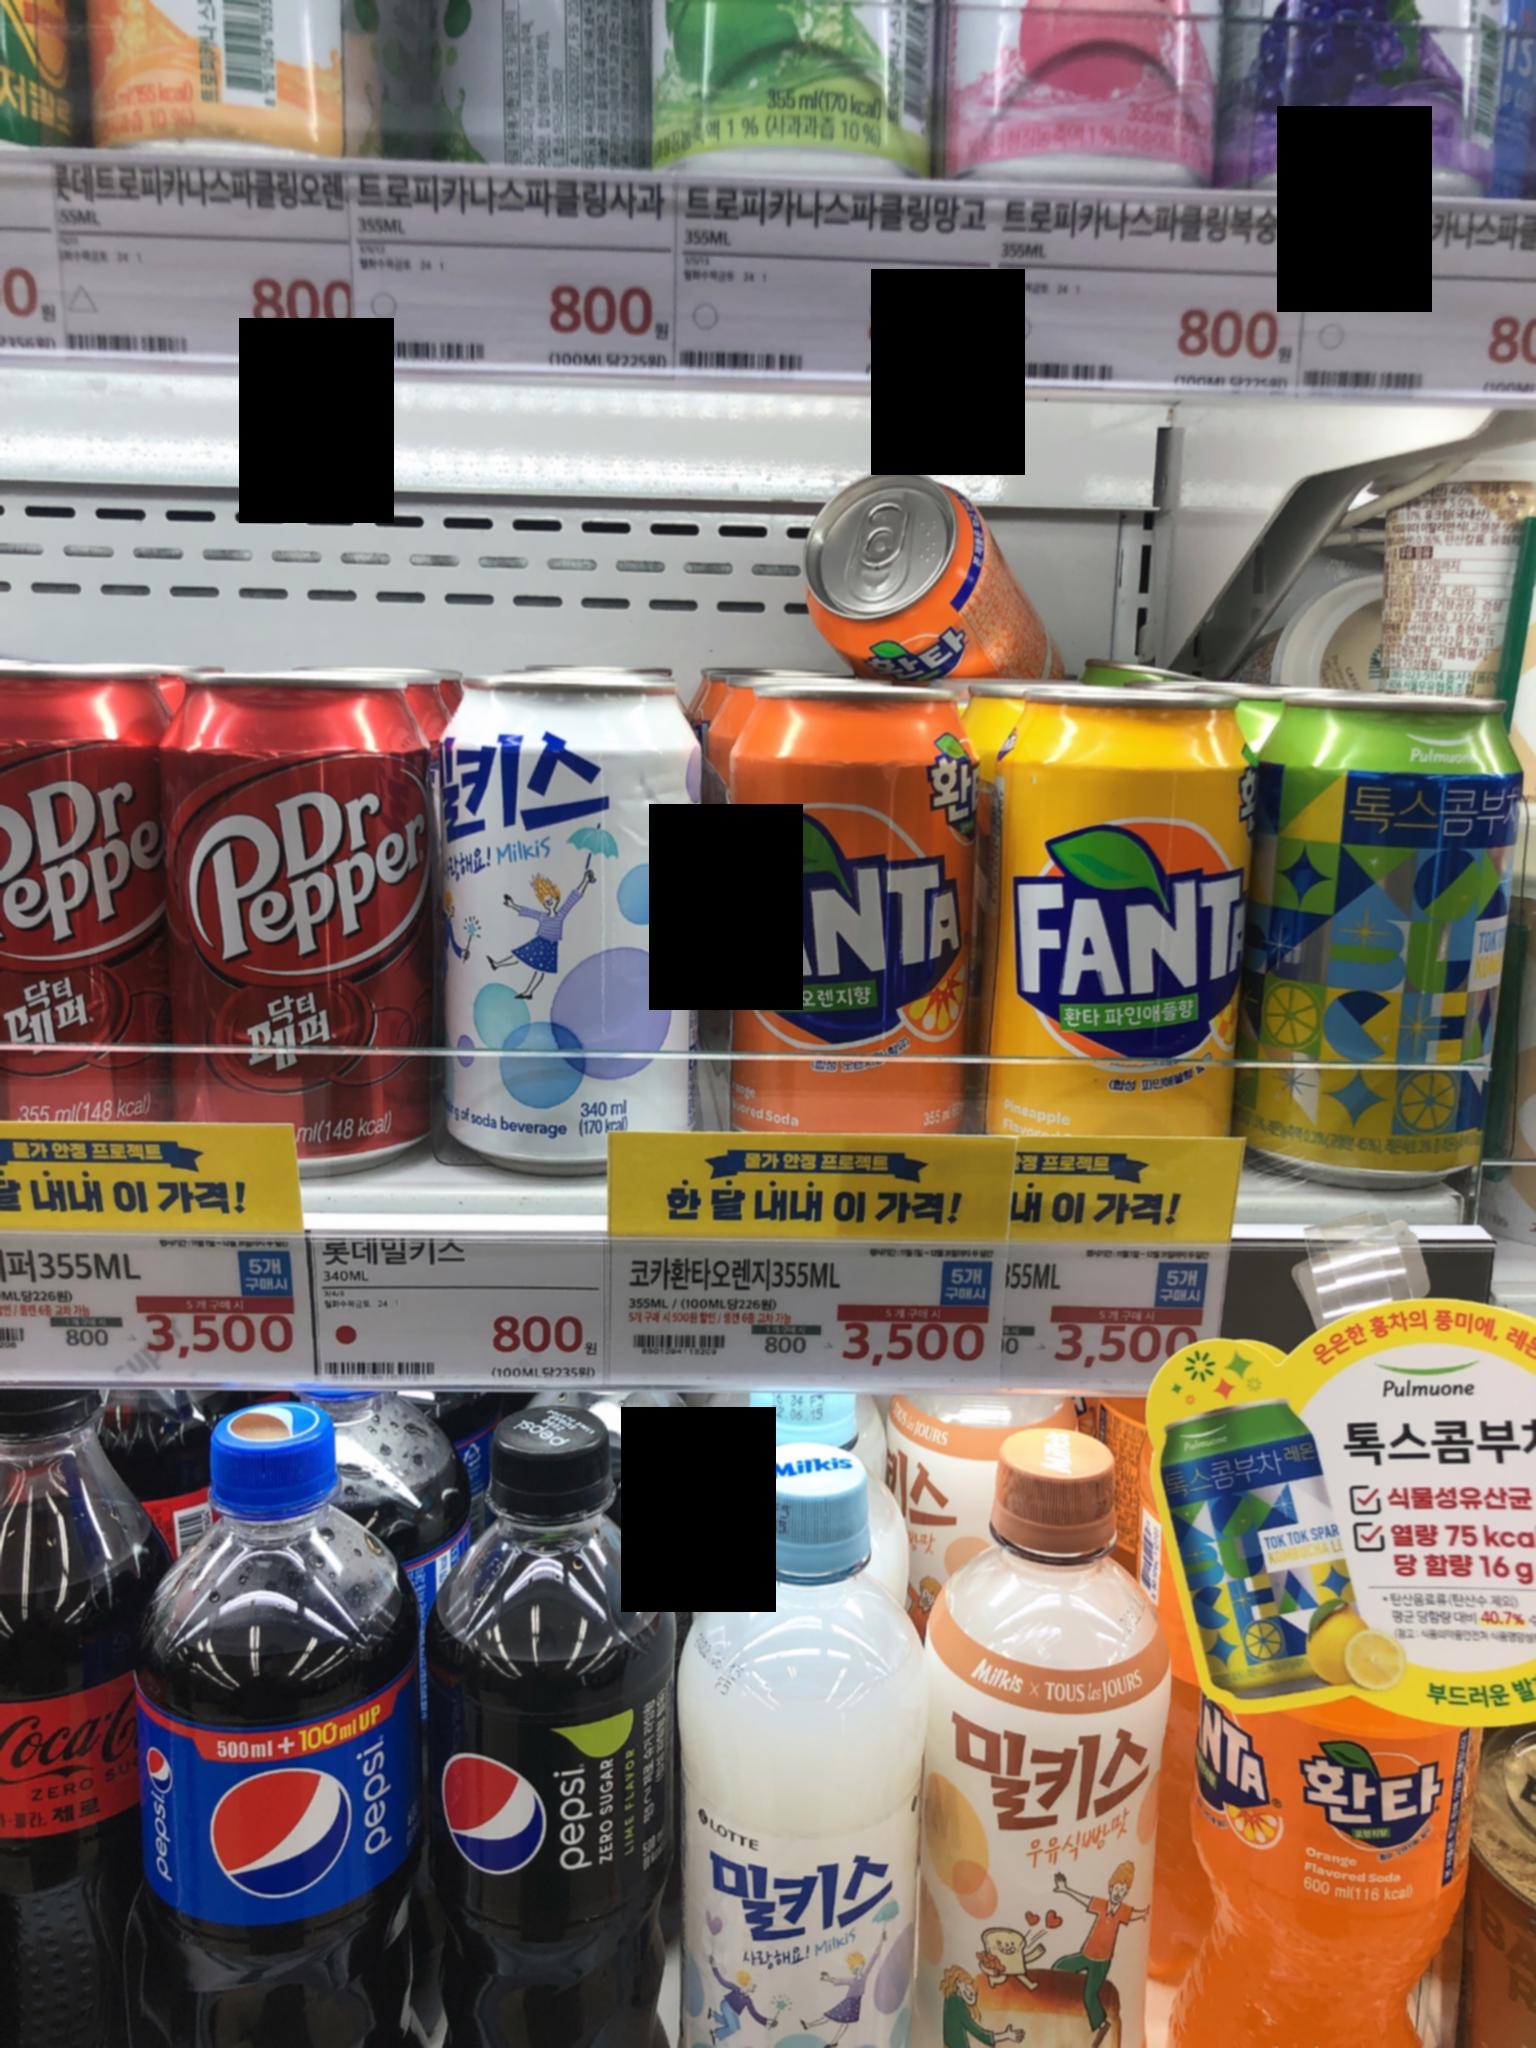fanta_orange: (736, 676, 981, 1164)
